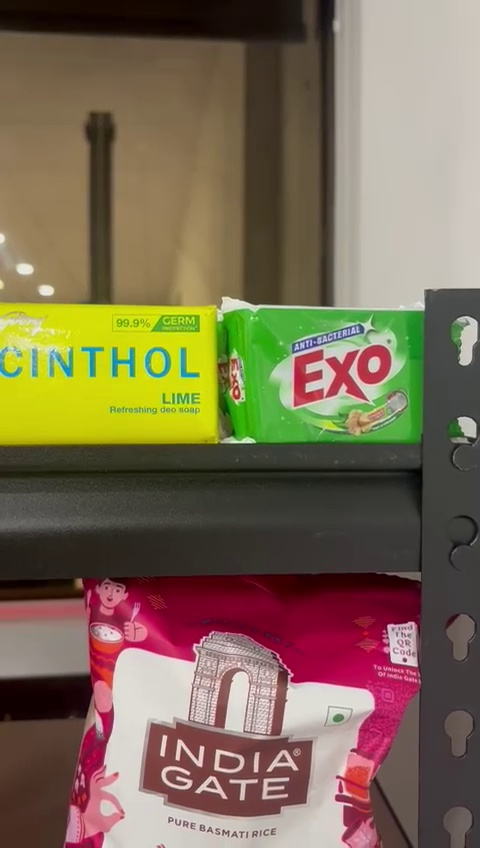Cinthol: (3, 305, 220, 444)
Exo Soap: (226, 311, 424, 445)
